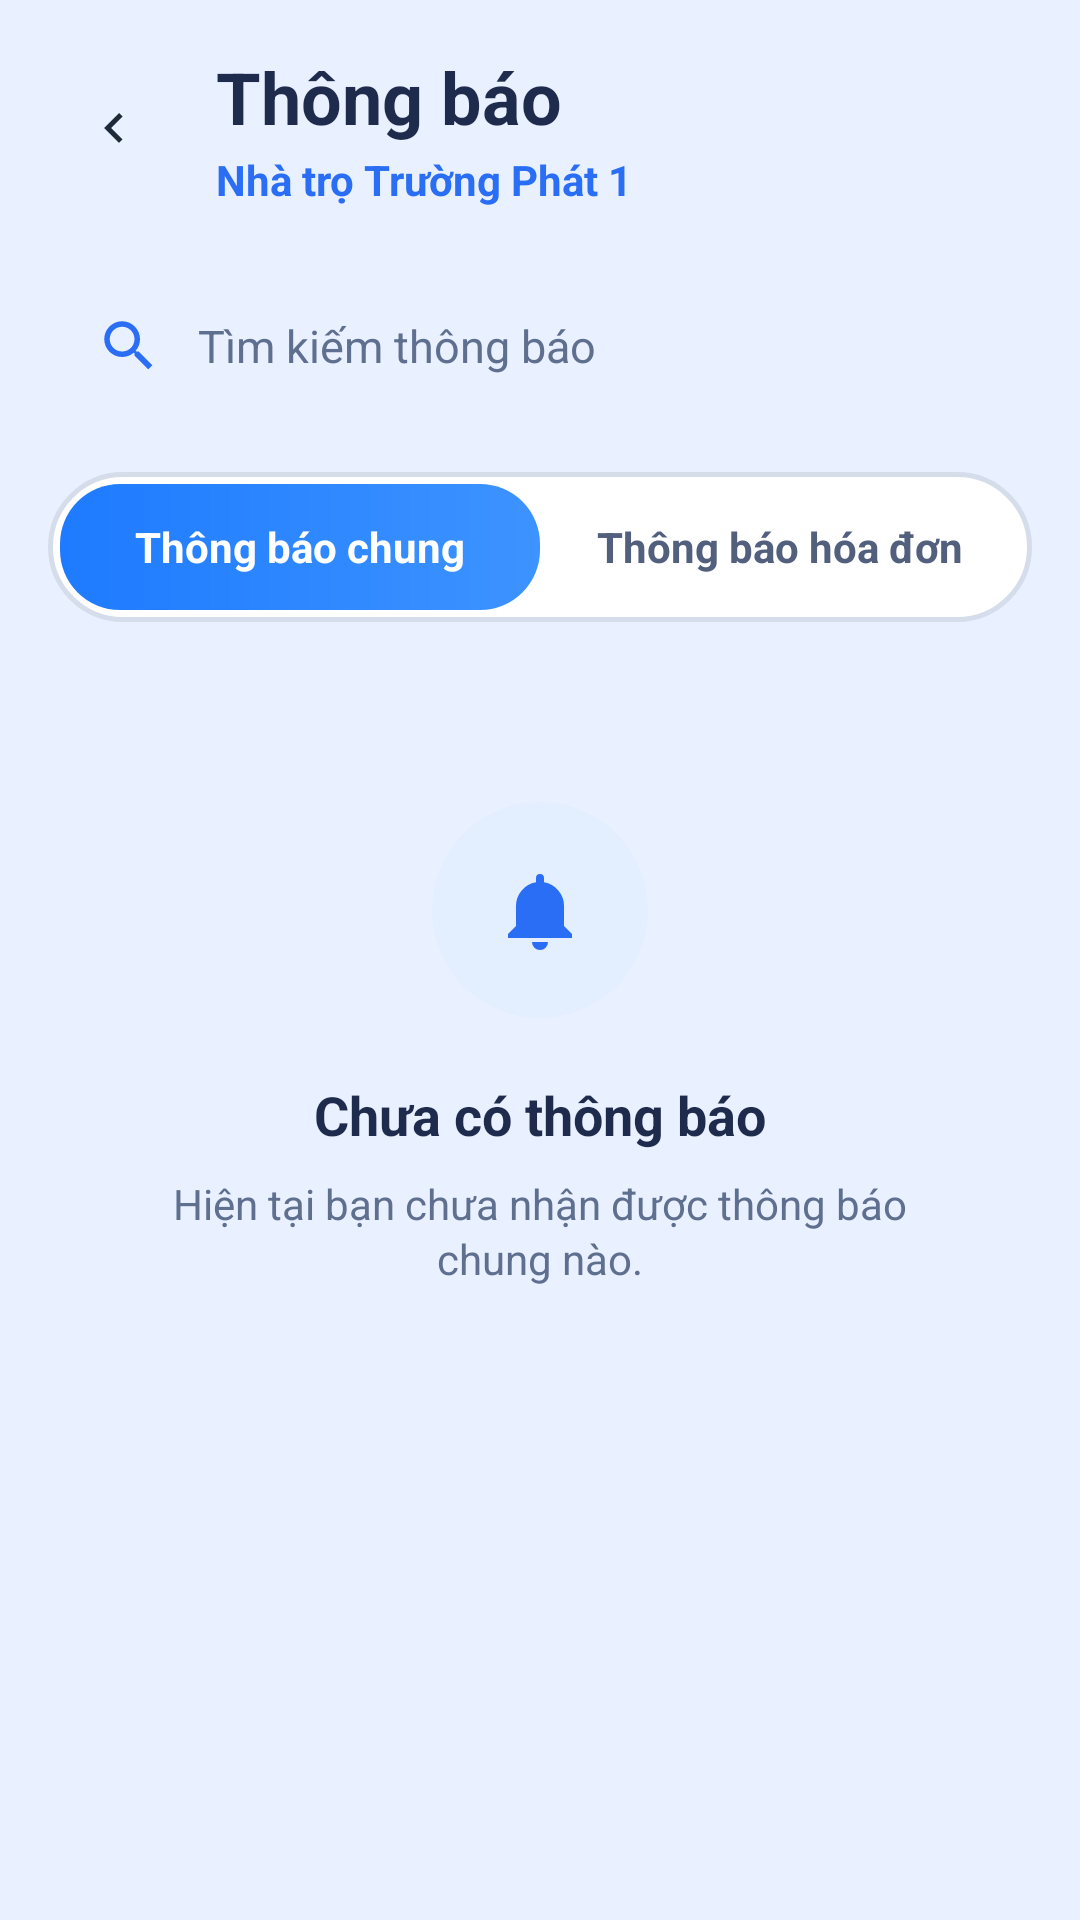

Icon bounding boxes for this 1080w x 1920h phone screenshot, format (x1, y1, x2, y2):
Quay lại: (104, 113, 123, 143)
